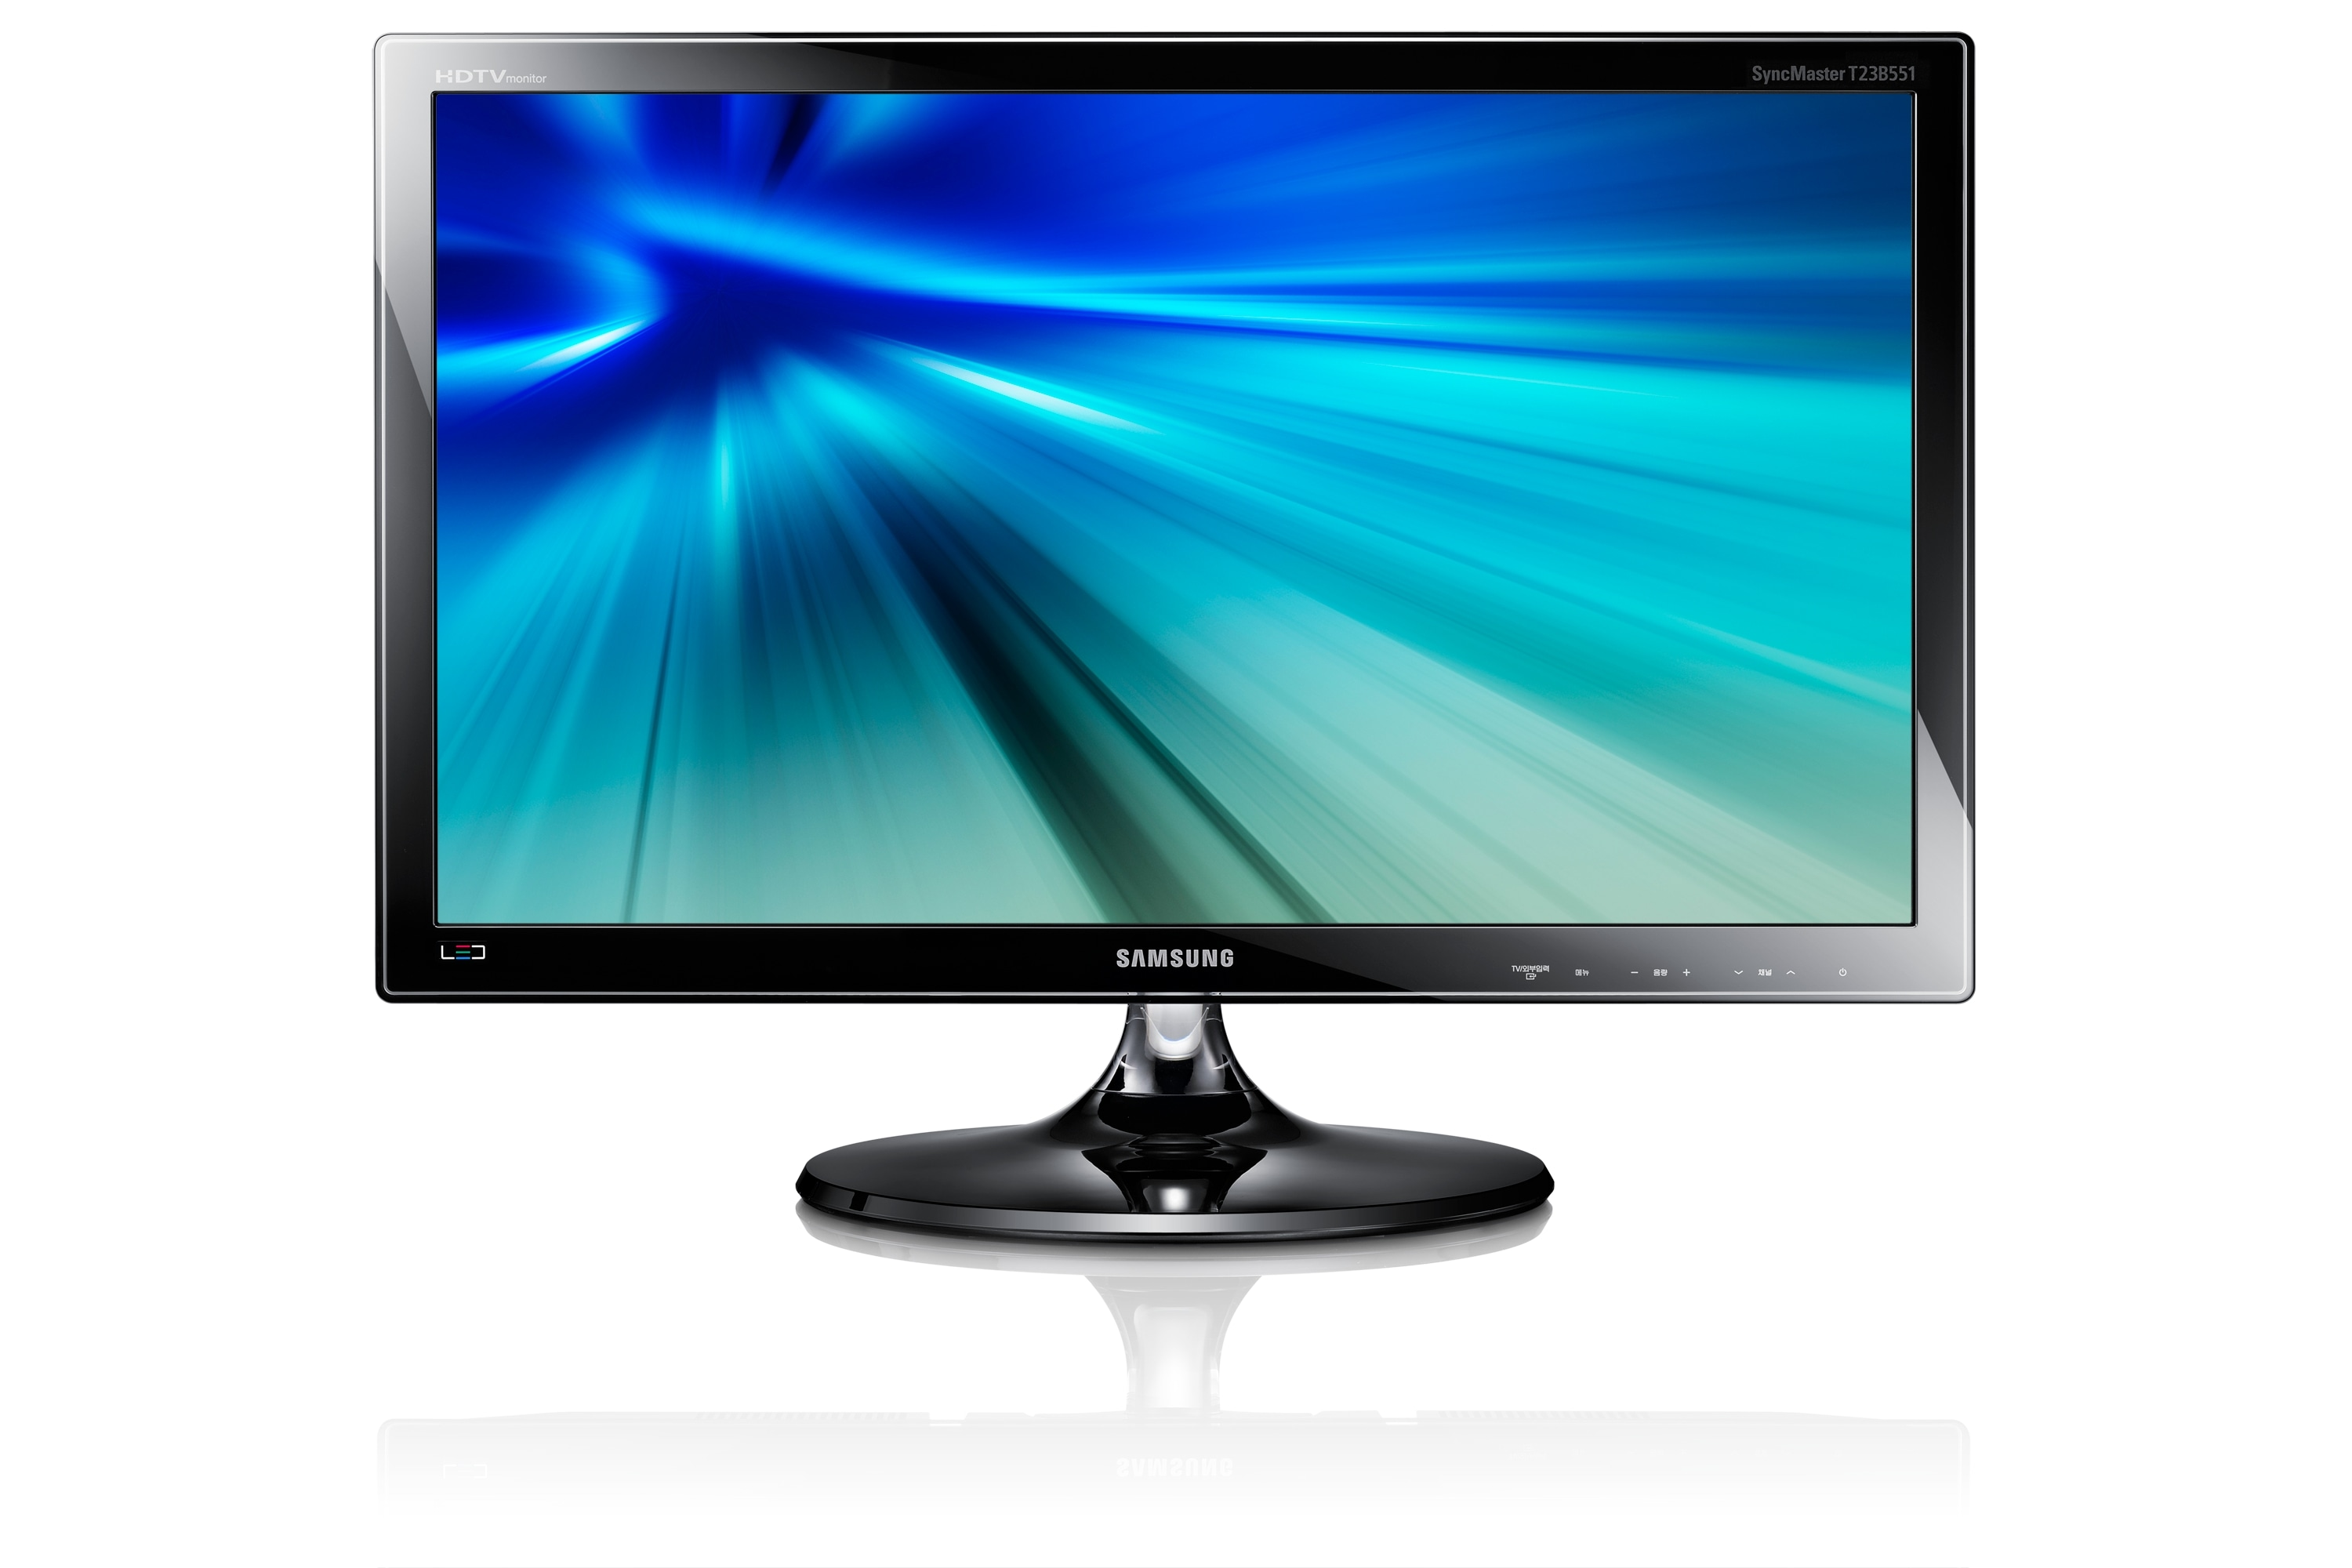tvmonitor: (369, 30, 1981, 1246)
